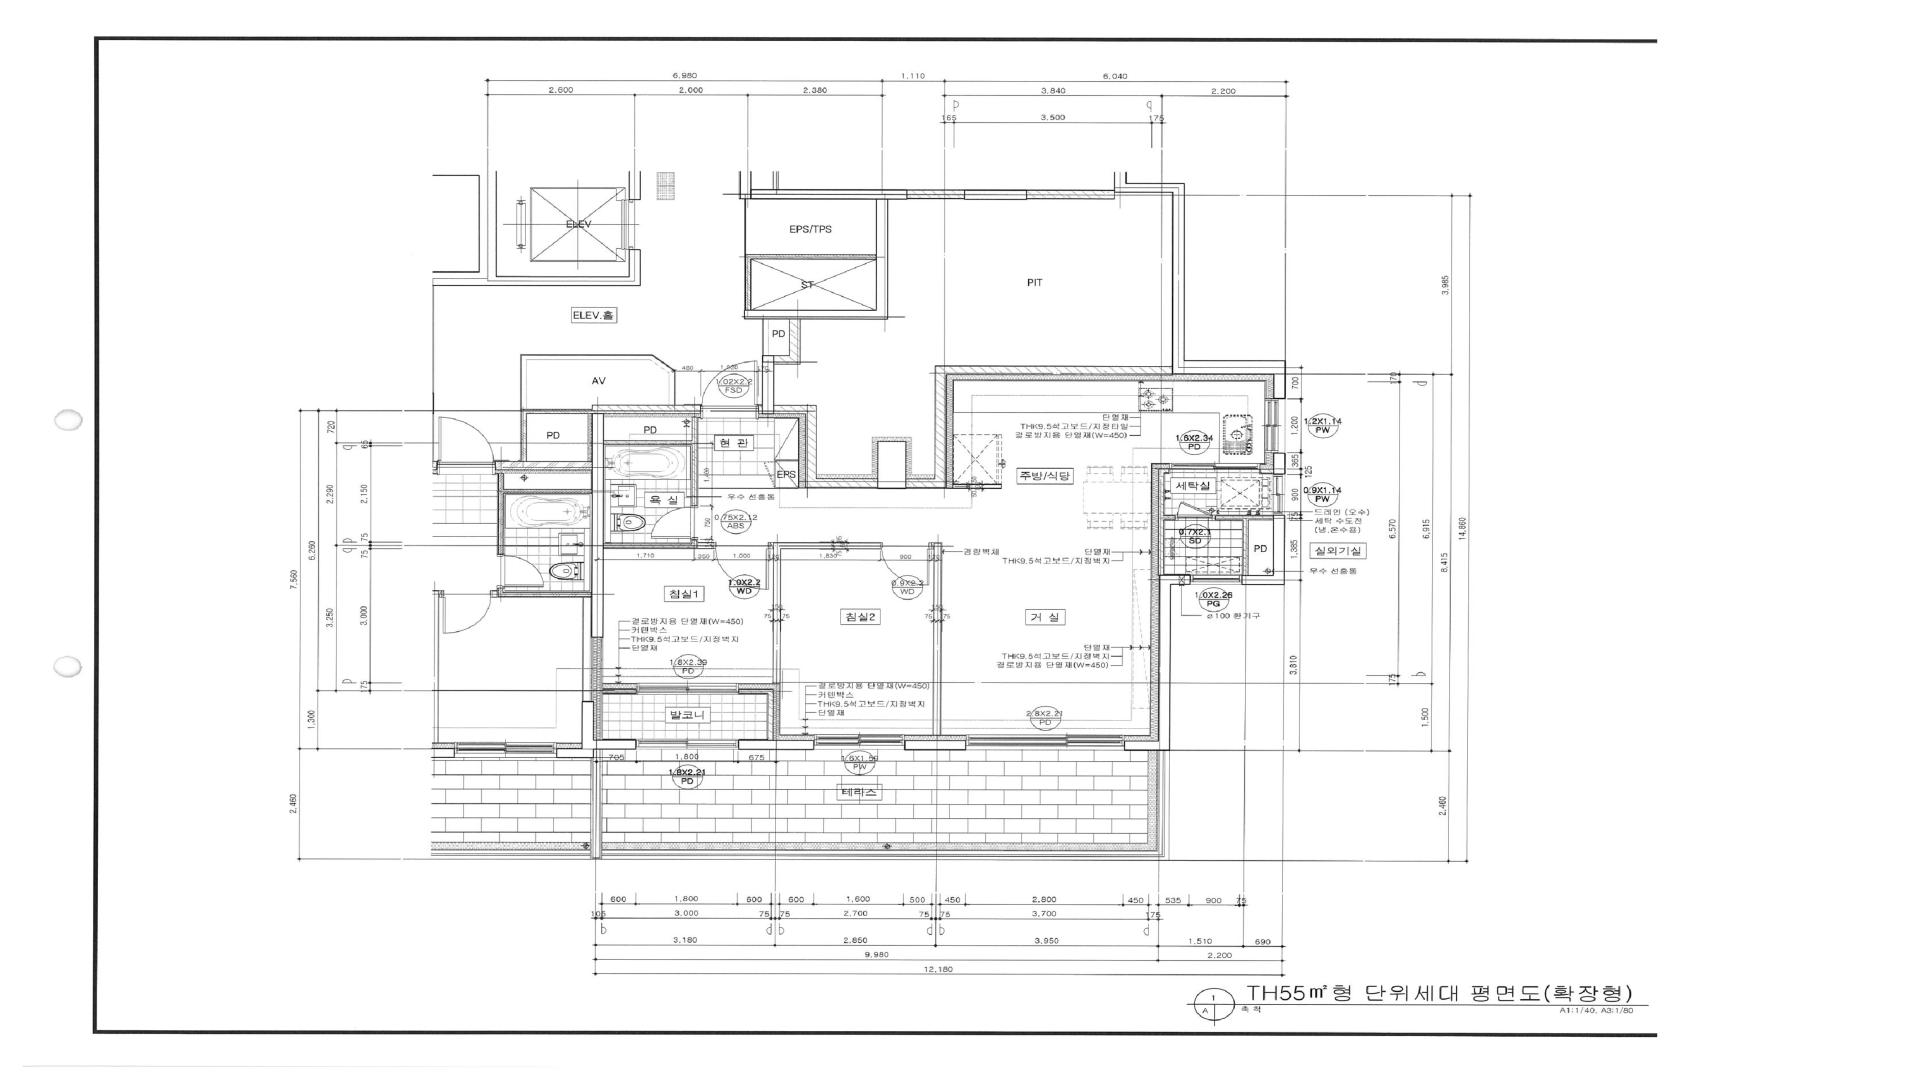wall: (744, 200, 1172, 488), (1113, 183, 1286, 400), (773, 543, 880, 684), (495, 404, 701, 471), (1124, 575, 1190, 752), (604, 417, 698, 506), (432, 249, 640, 287), (590, 638, 636, 739), (1214, 515, 1273, 576), (1241, 515, 1285, 585), (591, 414, 604, 638), (580, 701, 635, 750), (738, 189, 907, 200), (1158, 468, 1175, 575), (738, 689, 773, 740), (933, 543, 942, 736), (603, 540, 714, 549), (1027, 190, 1114, 200), (738, 739, 814, 750), (905, 739, 966, 751), (964, 190, 1027, 200), (906, 190, 965, 200), (1272, 453, 1285, 475), (952, 484, 1001, 489), (1260, 469, 1272, 474)
window: (700, 360, 762, 420), (965, 734, 1124, 752), (714, 543, 773, 590), (880, 543, 933, 588), (650, 506, 698, 540), (814, 734, 905, 750), (636, 683, 738, 695), (635, 739, 739, 750), (1265, 400, 1286, 453), (1170, 463, 1260, 474), (1175, 501, 1215, 521), (1272, 475, 1285, 515), (1190, 575, 1242, 585)
